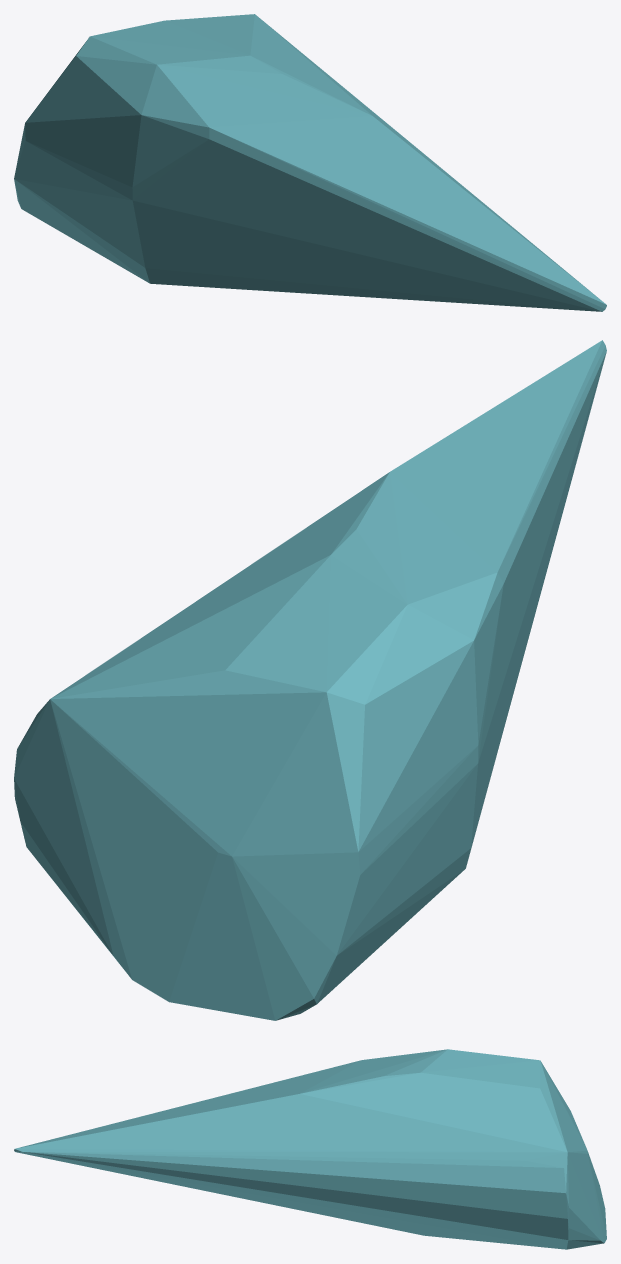
Rendered from bucket_mop_a01.glb.
3 renders of one model, top to bottom at view 1: azimuth 30°, elevation 25°; view 2: azimuth 150°, elevation 25°; view 3: azimuth 270°, elevation 25°, orthographic. The views are drawn at different scales.
Visible parts, largest first — view 1: geometry_0; view 2: geometry_0; view 3: geometry_0.
Part boxes in pixels (x1,y1,x2,y2): geometry_0: [14, 14, 606, 311]; geometry_0: [14, 340, 606, 1020]; geometry_0: [14, 1049, 606, 1249].
Size of the model in its own units: 0.1731 by 0.1511 by 0.4793.
